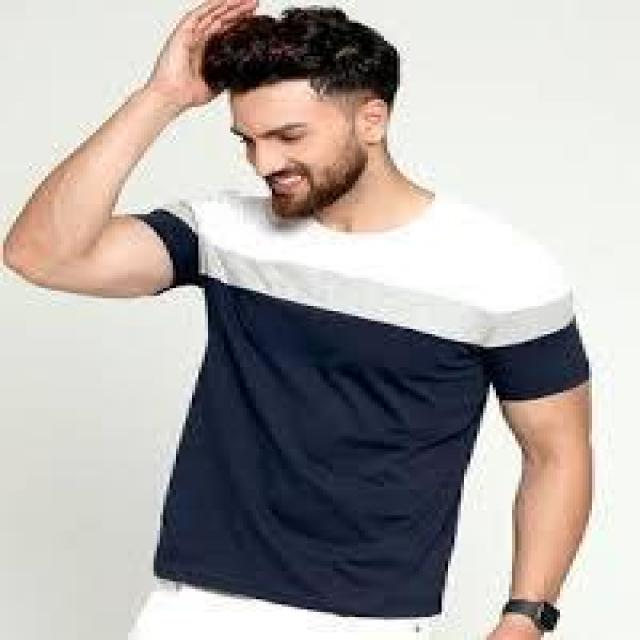Tshirt: (131, 191, 592, 625)
